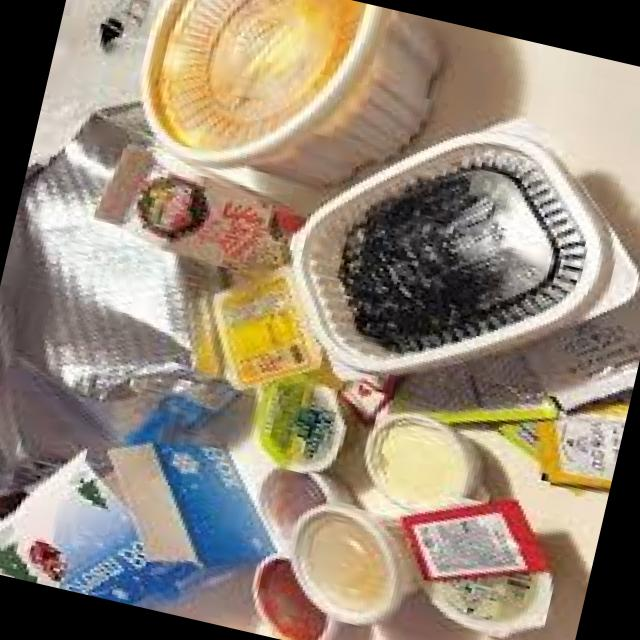paper: (0, 441, 283, 614), (91, 140, 308, 280)
plastic-bag: (377, 292, 640, 492), (390, 488, 564, 582), (207, 263, 326, 392), (253, 376, 350, 474)
plastic-bowl: (283, 109, 640, 384), (131, 0, 451, 194), (204, 252, 331, 402), (286, 502, 422, 627), (361, 411, 487, 510), (248, 373, 360, 474), (256, 464, 361, 560), (425, 570, 549, 639), (250, 551, 342, 640), (429, 573, 541, 626)
trash: (0, 92, 239, 498)
